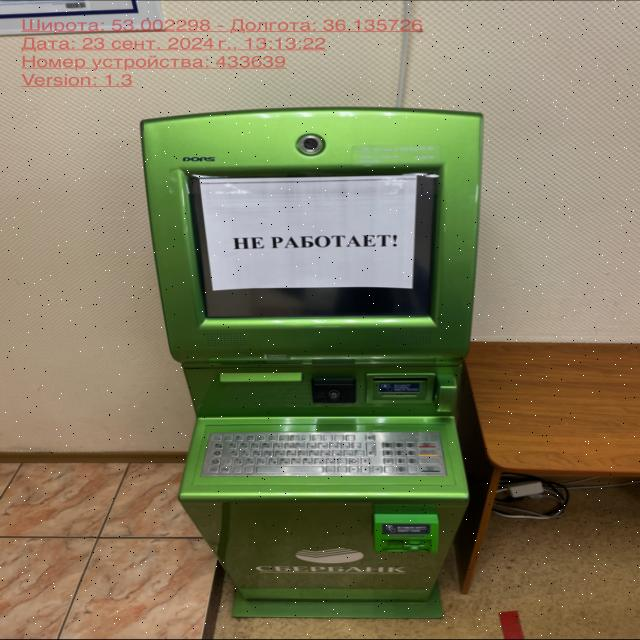bank: (127, 103, 479, 624)
